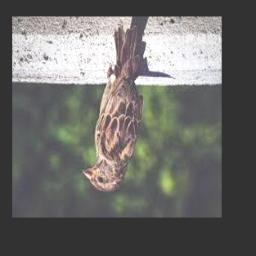Sparrow: (83, 25, 144, 193)
